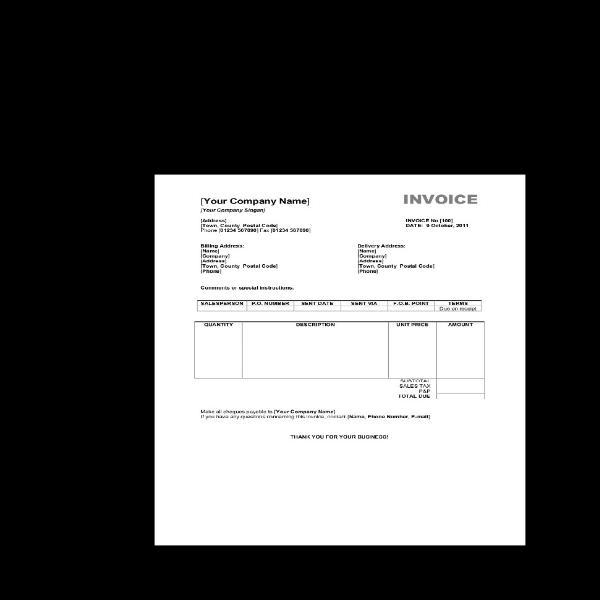test: (155, 175, 524, 544)
